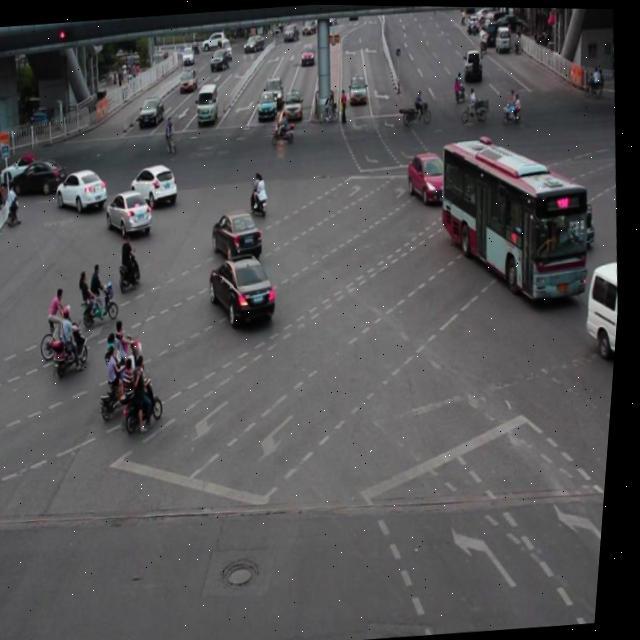car: (209, 249, 282, 324), (212, 205, 269, 261), (406, 147, 459, 205), (106, 186, 158, 238), (56, 165, 112, 213), (13, 154, 72, 194), (130, 161, 182, 205)
truck: (580, 256, 625, 368)
van: (434, 129, 599, 306)
